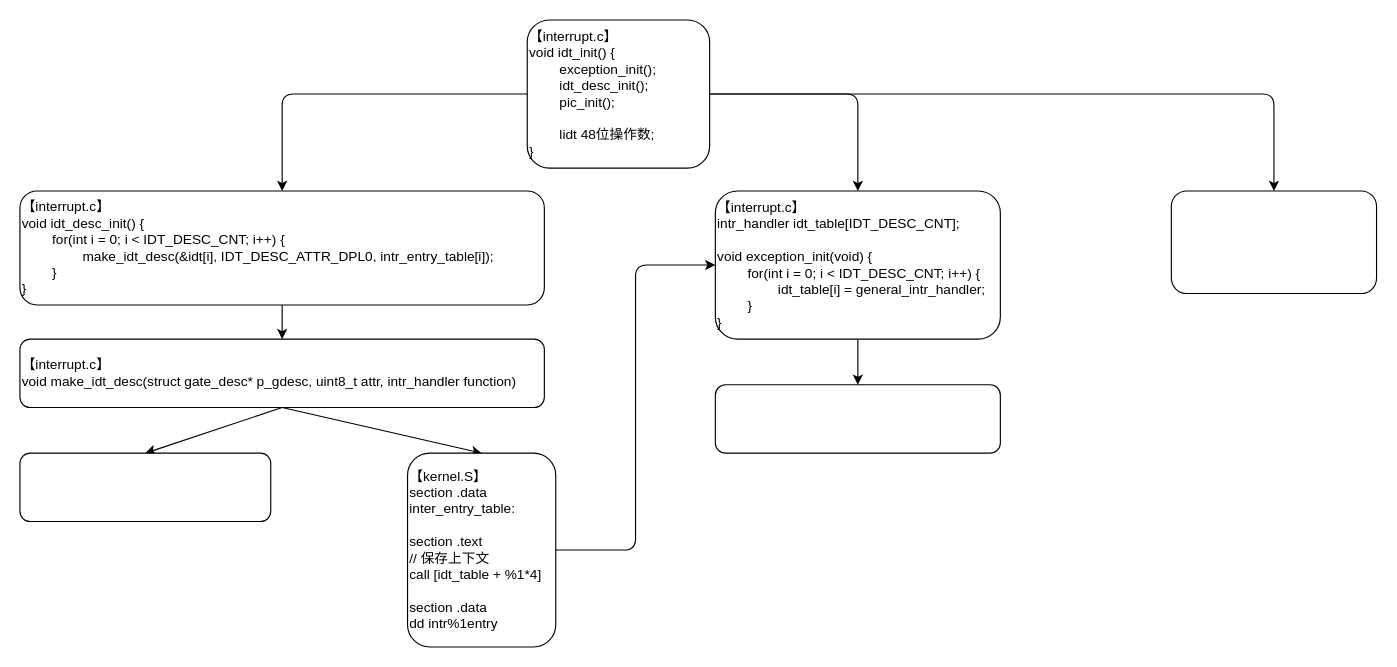
Image size: 1397x667. Some labels were removed from this diagram. Here are the shapes that lost their labels. From the top down, the centre of each, then its label:
point (1273, 242): 【interrupt.c】 void pic_init()：// initialize 8259A
point (857, 418): 【interrupt.c】 void general_intr_handler(uint8_t vec_nr)： // 中断处理程序
point (145, 487): 【interrupt.c】 struct gate_desc idt[IDT_DESC_CNT];
